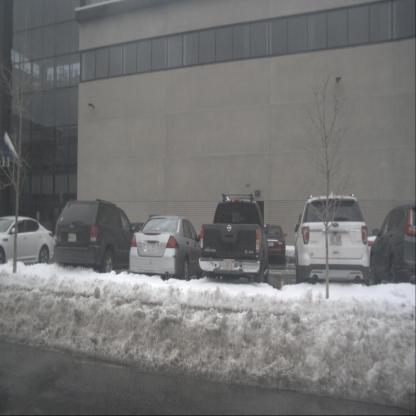vehicle-car: (294, 193, 370, 286), (54, 198, 140, 274), (128, 214, 207, 281), (370, 204, 416, 285), (0, 215, 55, 265), (257, 223, 286, 266)
vehicle-truck: (199, 193, 269, 284)
